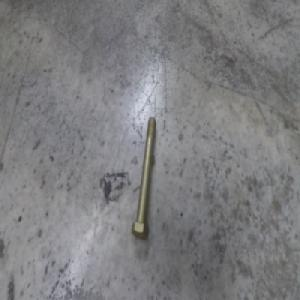Bolt: (132, 116, 156, 239)
